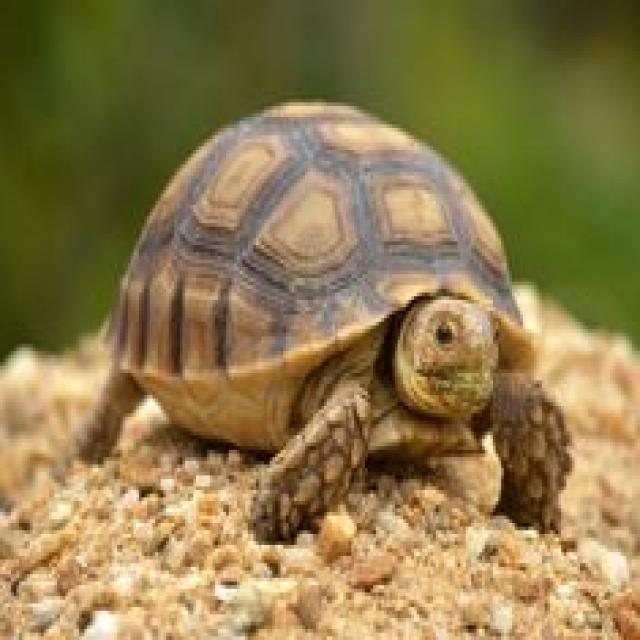Herbivorous: (71, 102, 575, 541)
